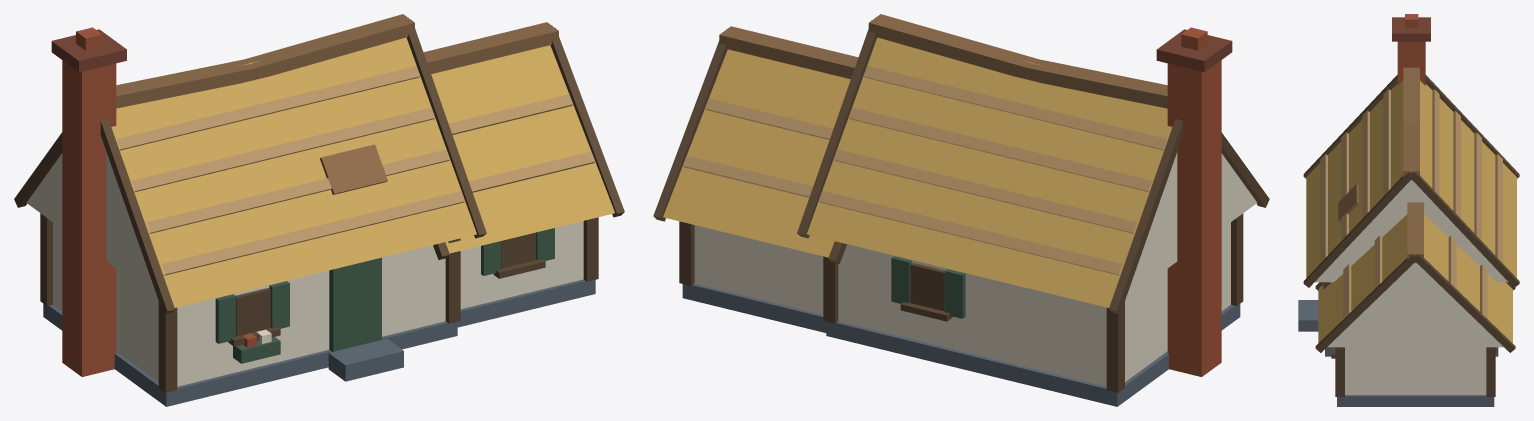
File: cottage-b1.glb
3 renders of one model, left to right at view 1: azimuth 30°, elevation 25°; view 2: azimuth 150°, elevation 25°; view 3: azimuth 270°, elevation 25°, orthographic. The views are drawn at different scales.
Parts seen in each view (by area): view 1: house, accent; view 2: house, accent; view 3: house.
Part boxes in pixels (x1,y1,x2,y2): house: (14, 14, 624, 406); accent: (215, 228, 554, 363); house: (653, 14, 1269, 406); accent: (891, 256, 965, 318); house: (1298, 14, 1519, 406).
Size of the model in its own units: 10.06 by 6.51 by 5.57.
1 material, 1 textured.
